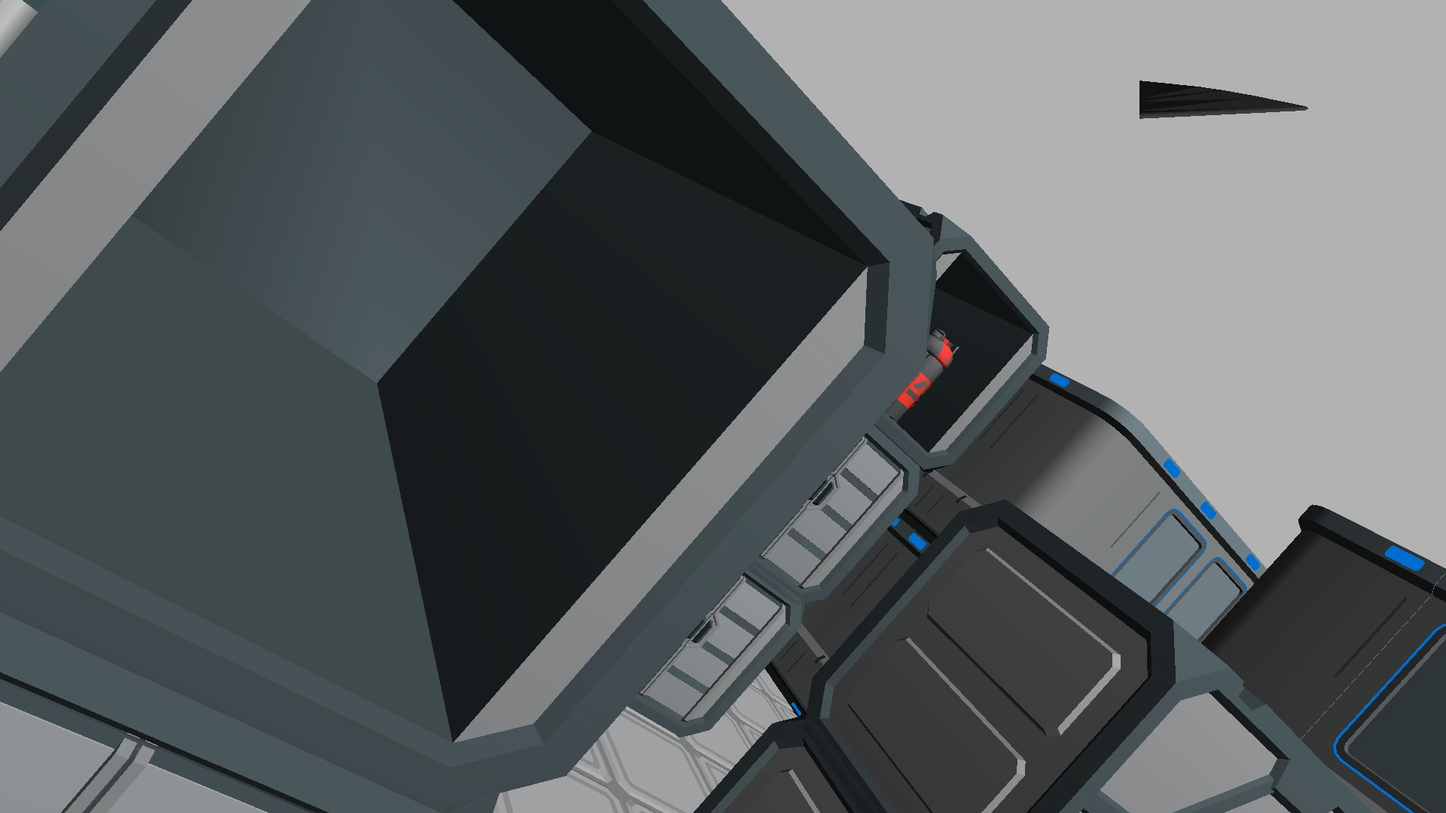red barrel: (886, 328, 960, 423)
